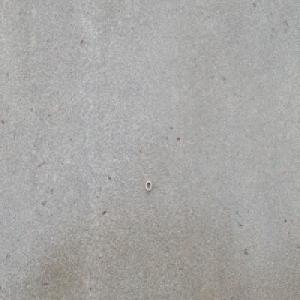Nut: (145, 180, 152, 192)
